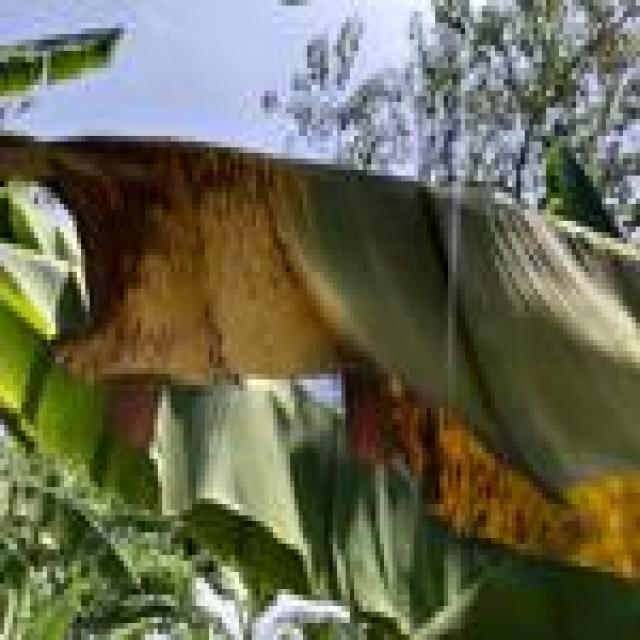Early_rust: (0, 110, 640, 596)
